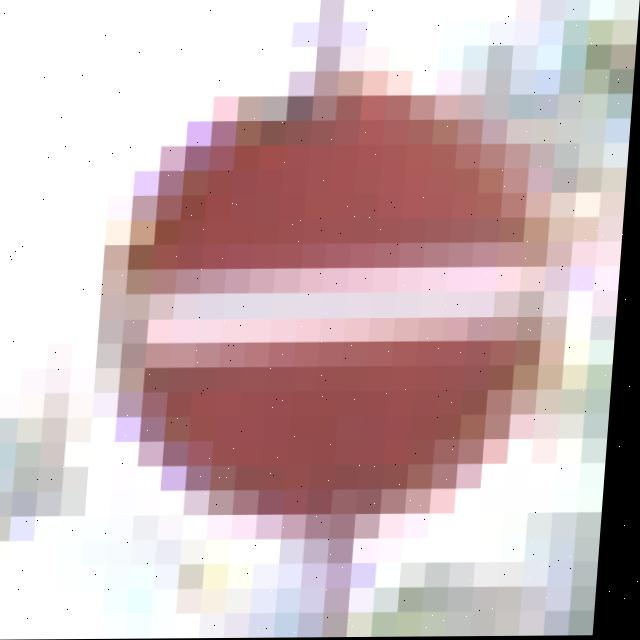road_rough: (82, 65, 605, 580)
